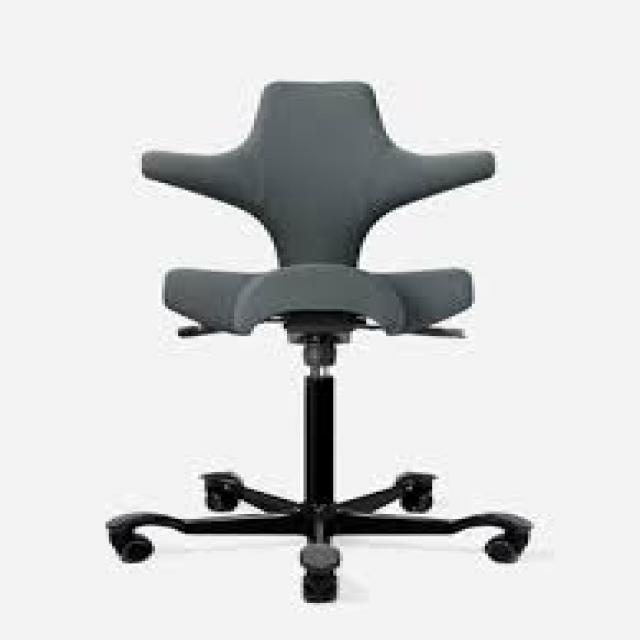chair: (56, 52, 617, 640)
